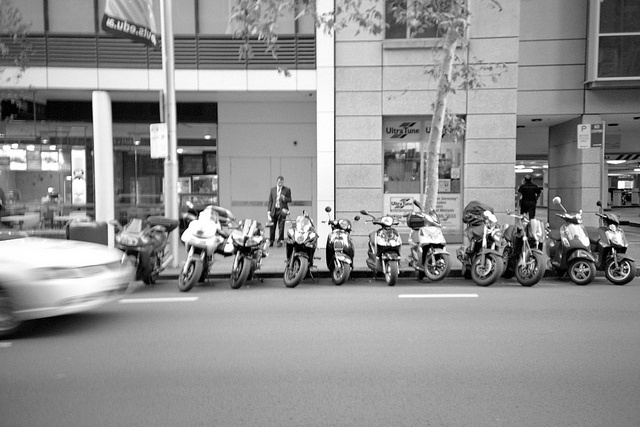non-vehicle: (178, 200, 235, 291), (109, 215, 180, 286), (546, 195, 596, 285), (583, 199, 635, 285), (454, 200, 503, 285), (503, 208, 550, 286), (407, 199, 451, 281), (223, 218, 271, 287), (360, 209, 402, 285), (321, 205, 360, 285), (283, 209, 321, 286)
